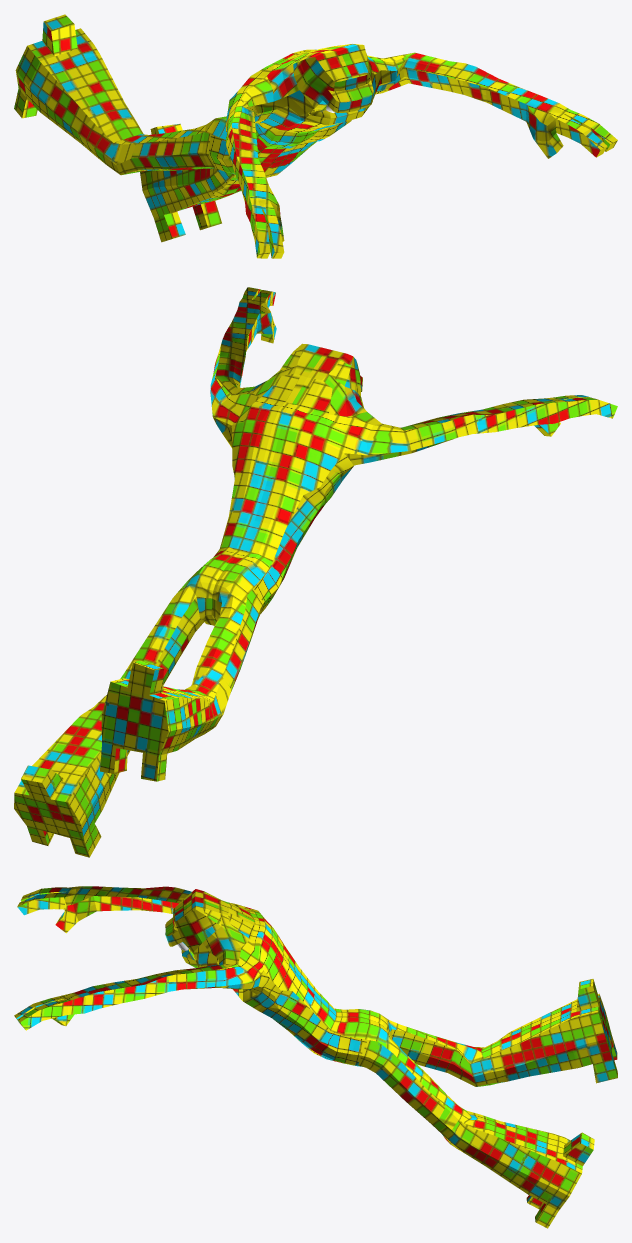
Rendered from SinergiaBoost.DAE.
3 views of the same model, one above another, from view 1: azimuth 30°, elevation 25°; view 2: azimuth 150°, elevation 25°; view 3: azimuth 270°, elevation 25° (orthographic). The views are drawn at different scales.
Parts seen in each view (by area): view 1: sinergia; view 2: sinergia; view 3: sinergia.
Boxes of the visible parts, x1=… form: sinergia: x1=14, y1=14, x2=617, y2=258; sinergia: x1=14, y1=287, x2=617, y2=857; sinergia: x1=14, y1=886, x2=617, y2=1228.
Size of the model in its own units: 2.92 by 4.99 by 2.73.
Materials: 1 (1 with a texture image).
